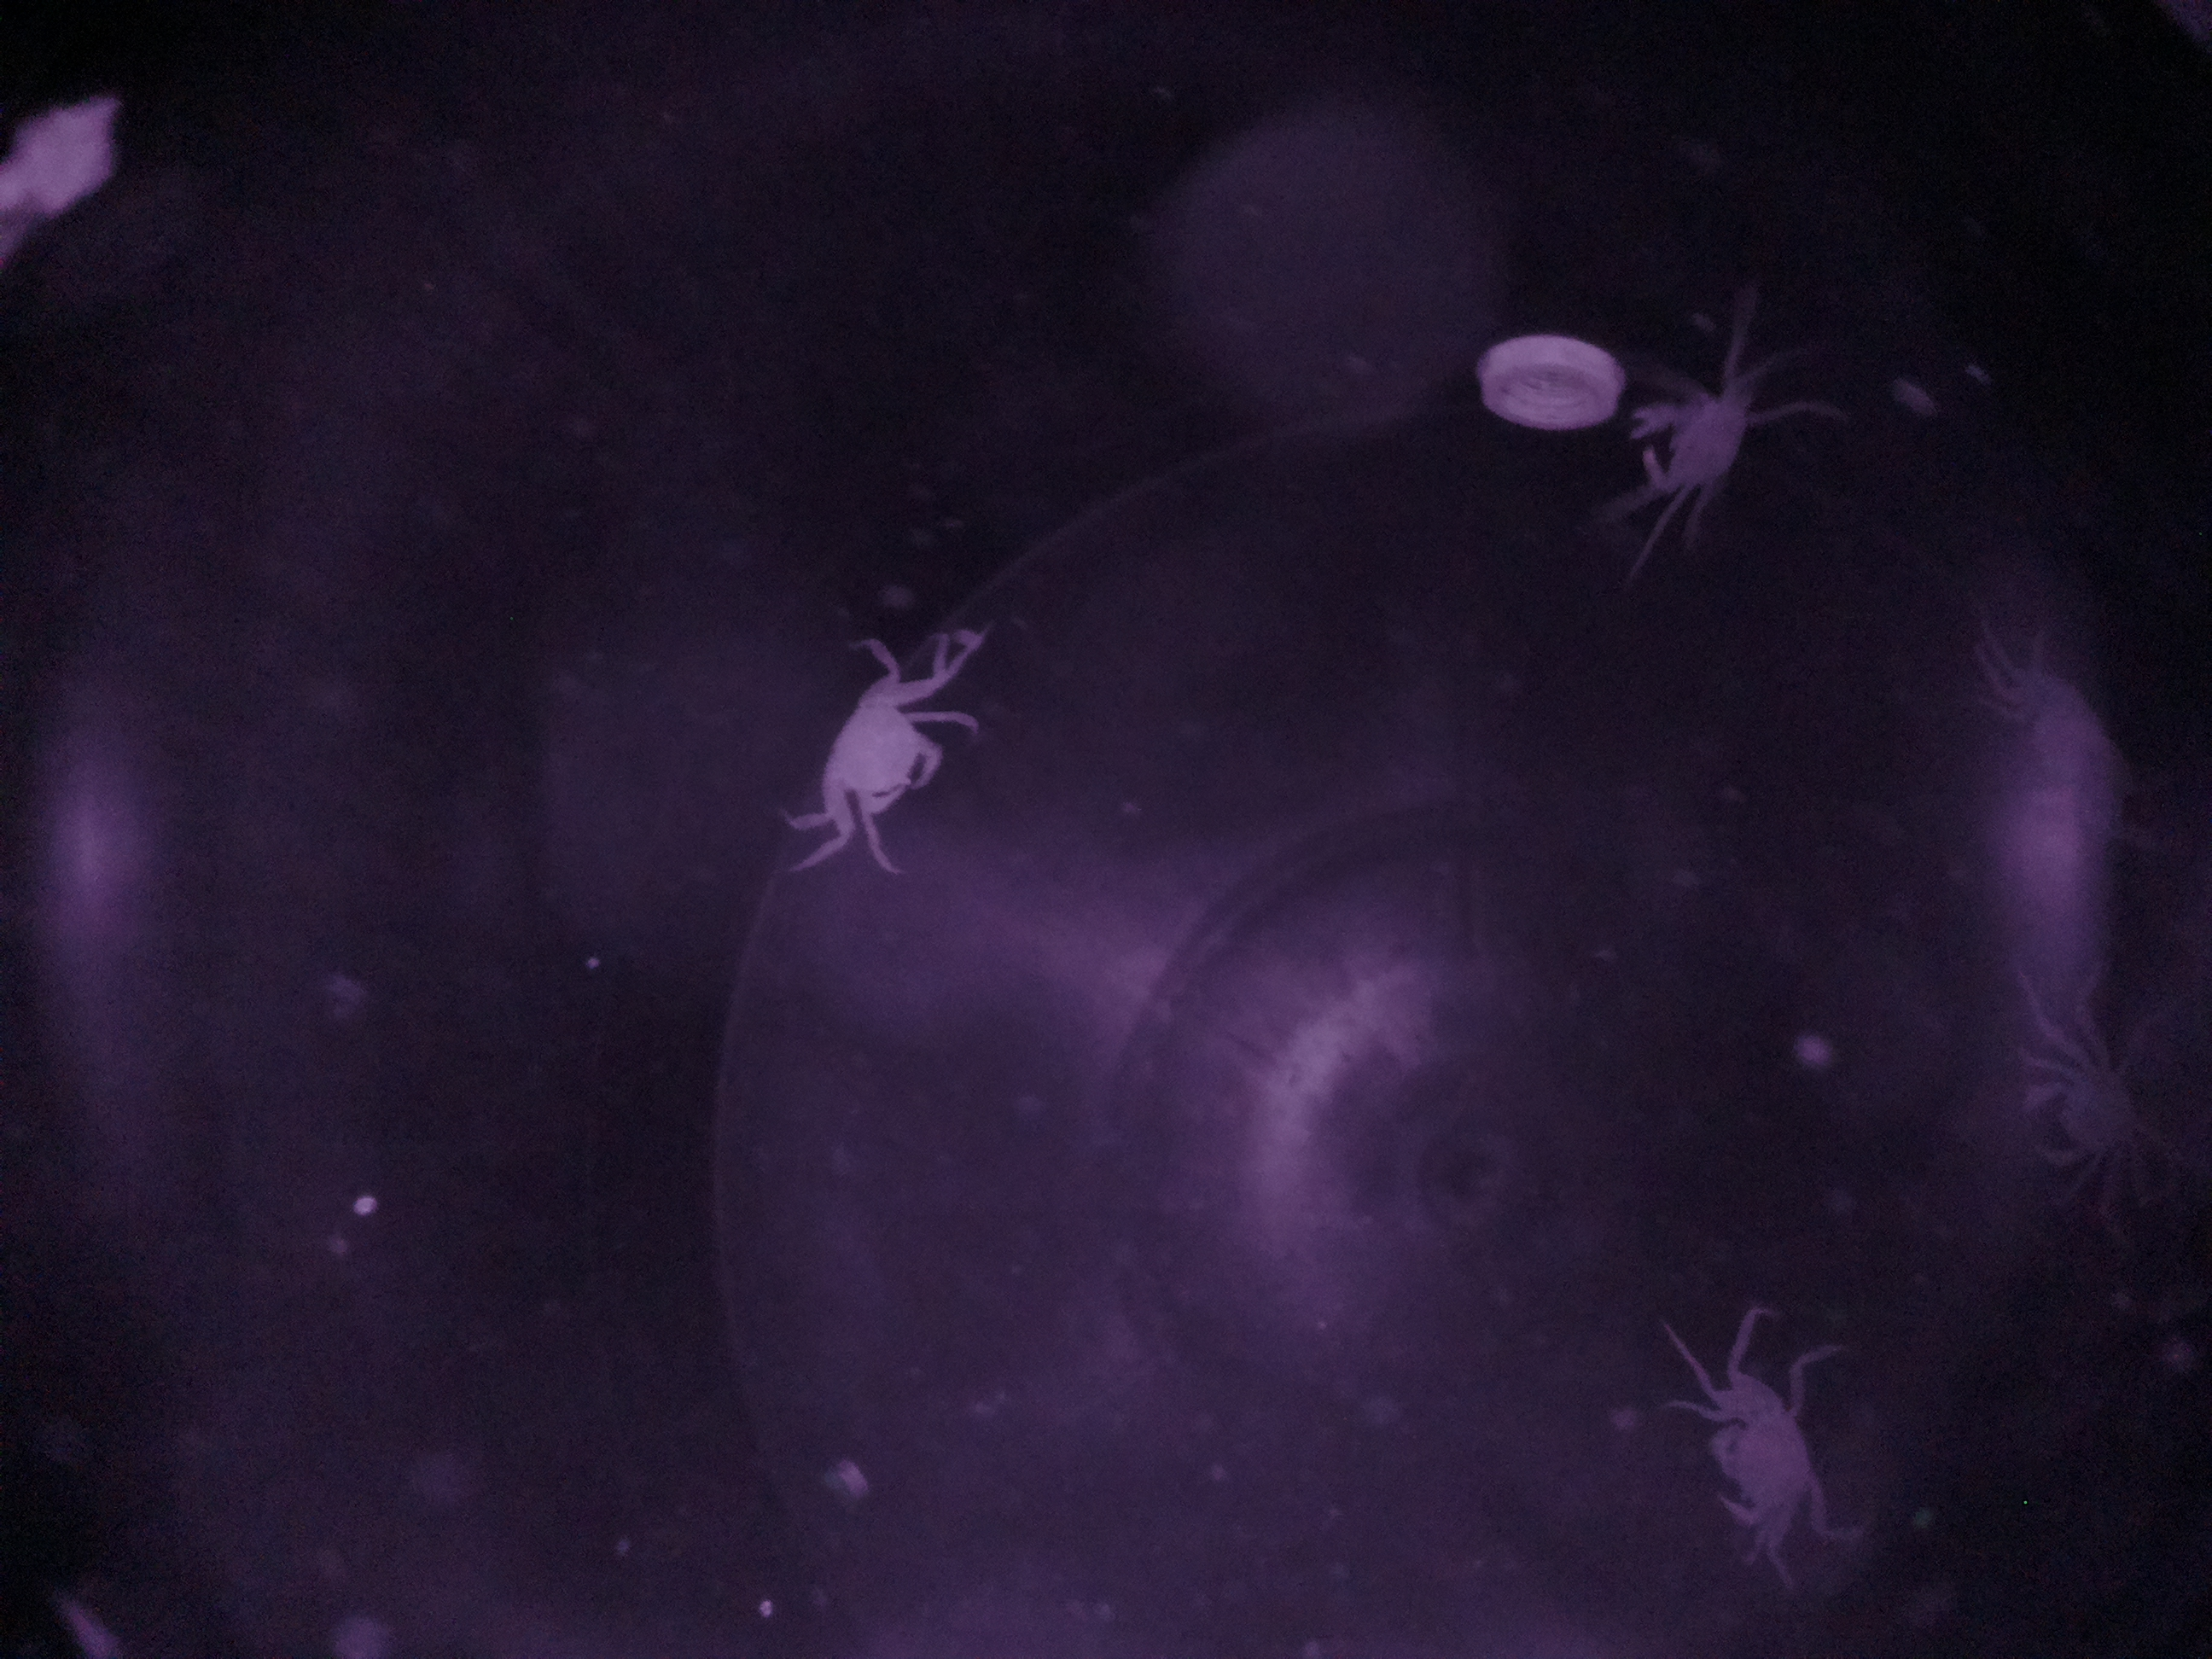Crab: (1670, 1333, 1851, 1591), (791, 666, 965, 838)
